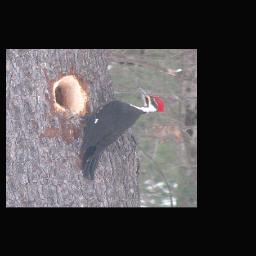Woodpecker: (60, 87, 167, 181)
